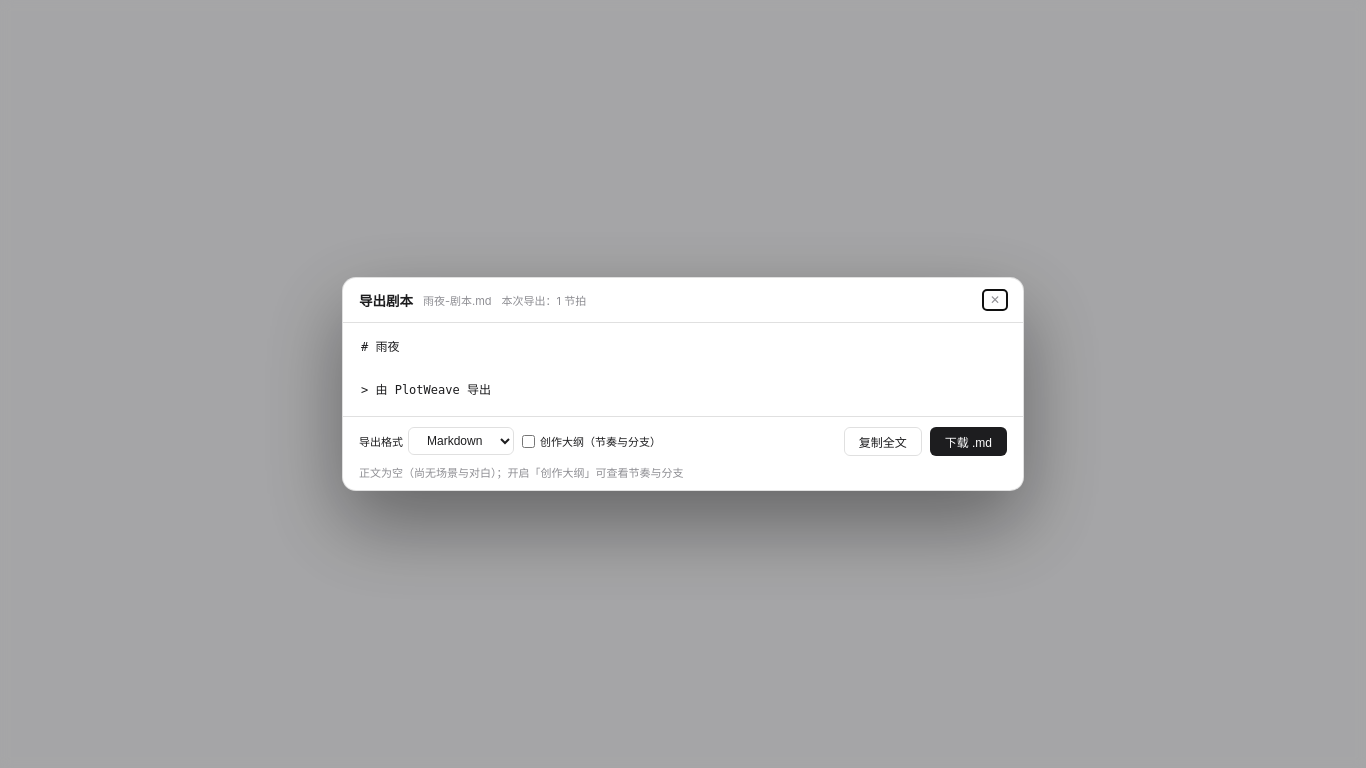
Scenario: ExportDialog（无故事内容，review #81） › 仅有 beat 时仍引导开启有内容的大纲
Expected: the text "正文为空（尚无场景与对白）；开启「创作大纲」可查看节奏与分支" is shown, [359, 466, 684, 480]
Click the checkbox labelled "创作大纲（节奏与分支）": (528, 441) [522, 435, 535, 448]
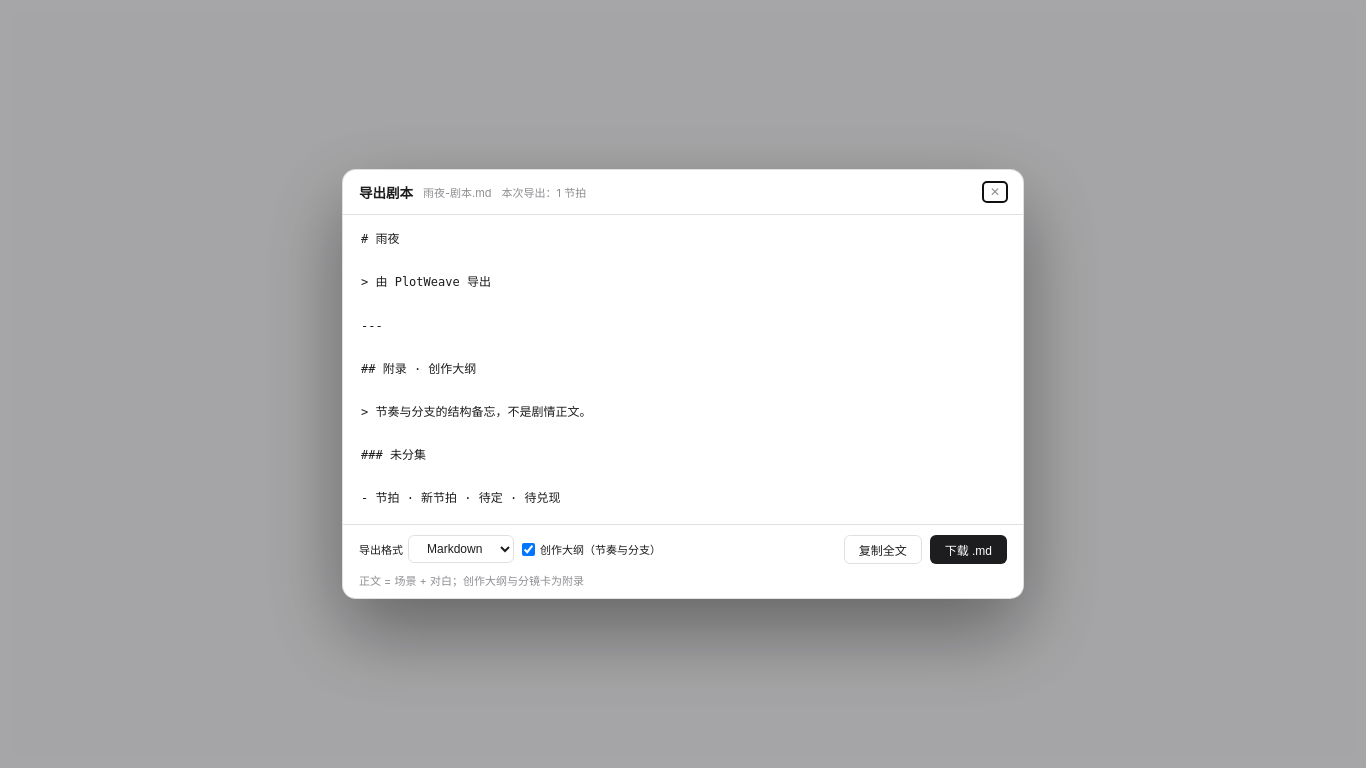
Now the text "正文 = 场景 + 对白；创作大纲与分镜卡为附录" is shown, box [359, 574, 584, 588]
Now the text "新节拍" is shown, box [361, 232, 592, 505]
